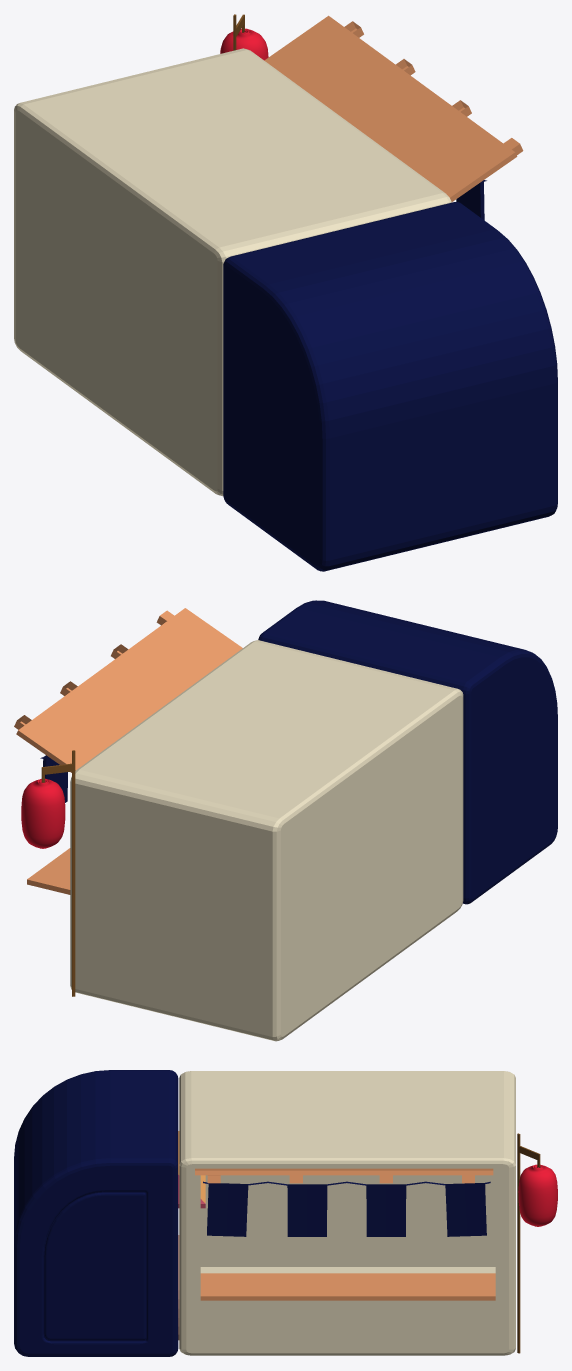
File: Food Booth3.1.fbx
3 views of the same model, one above another, from view 1: azimuth 30°, elevation 25°; view 2: azimuth 150°, elevation 25°; view 3: azimuth 270°, elevation 25° (orthographic). The views are drawn at different scales.
Visible parts, largest first — view 1: Cube.001, Cube.002, Plane.001, Sphere; view 2: Cube.002, Cube.001, Plane.001, Sphere, Cube.004; view 3: Cube.002, Cube.001, Plane.002, Plane.001, Sphere, Cube.004.
Part boxes in pixels (x1=…): Cube.001: x1=223, y1=202, x2=557, y2=571; Cube.002: x1=14, y1=48, x2=451, y2=496; Plane.001: x1=264, y1=15, x2=523, y2=201; Sphere: x1=220, y1=28, x2=268, y2=60; Cube.002: x1=27, y1=640, x2=463, y2=1041; Cube.001: x1=258, y1=600, x2=557, y2=904; Plane.001: x1=14, y1=608, x2=242, y2=772; Sphere: x1=21, y1=778, x2=65, y2=848; Cube.004: x1=41, y1=750, x2=75, y2=996; Cube.002: x1=179, y1=1071, x2=515, y2=1355; Cube.001: x1=14, y1=1070, x2=178, y2=1356; Plane.002: x1=203, y1=1181, x2=490, y2=1236; Plane.001: x1=195, y1=1168, x2=493, y2=1183; Sphere: x1=518, y1=1164, x2=557, y2=1226; Cube.004: x1=517, y1=1133, x2=540, y2=1353.
Bounding box in the file's own units: 1640 × 1351 × 3012.
